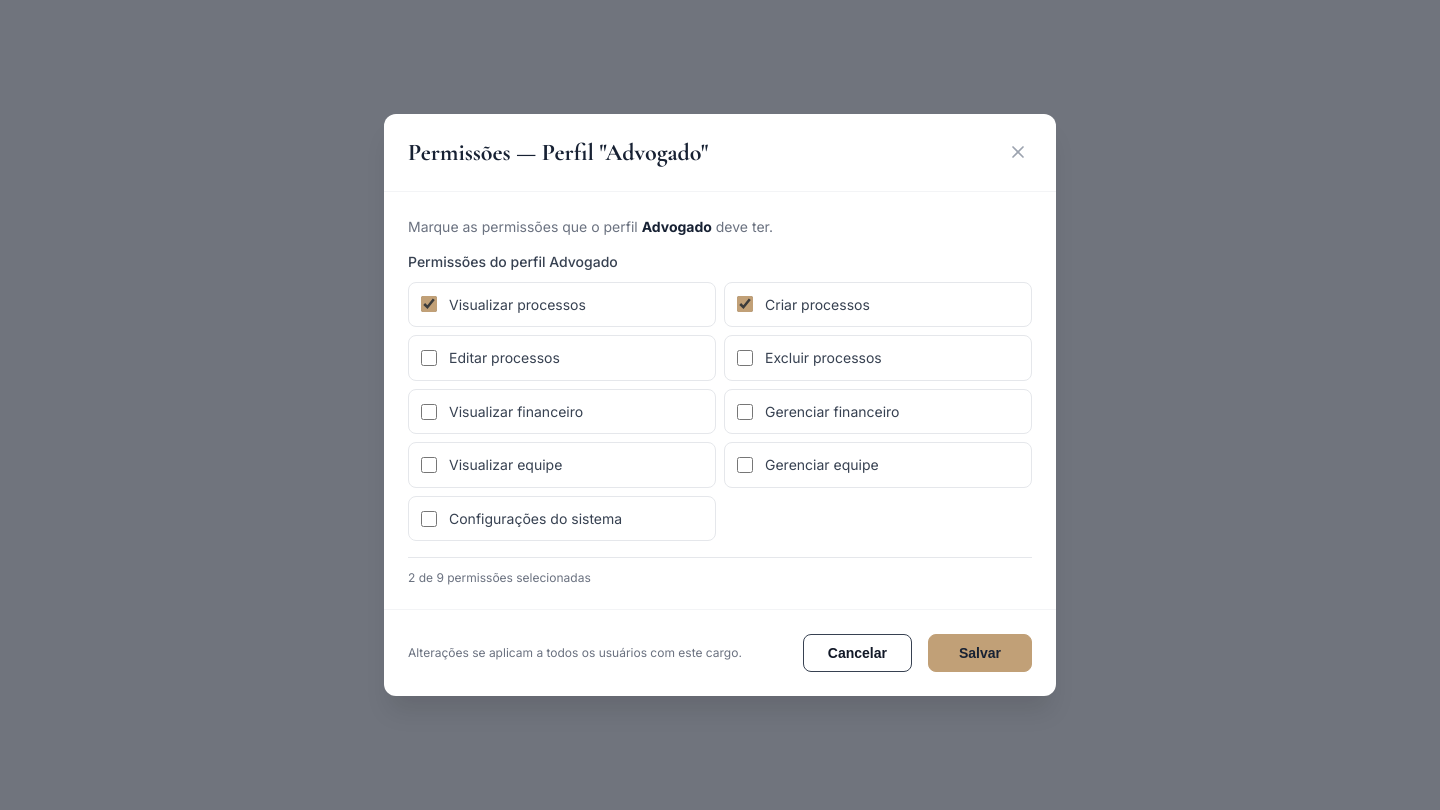
Test: RolePermissionsModal › exibe o erro e mantém a seleção quando não consegue salvar
Click the checkbox labelled "Editar processos": (429, 358) [421,350,437,366]
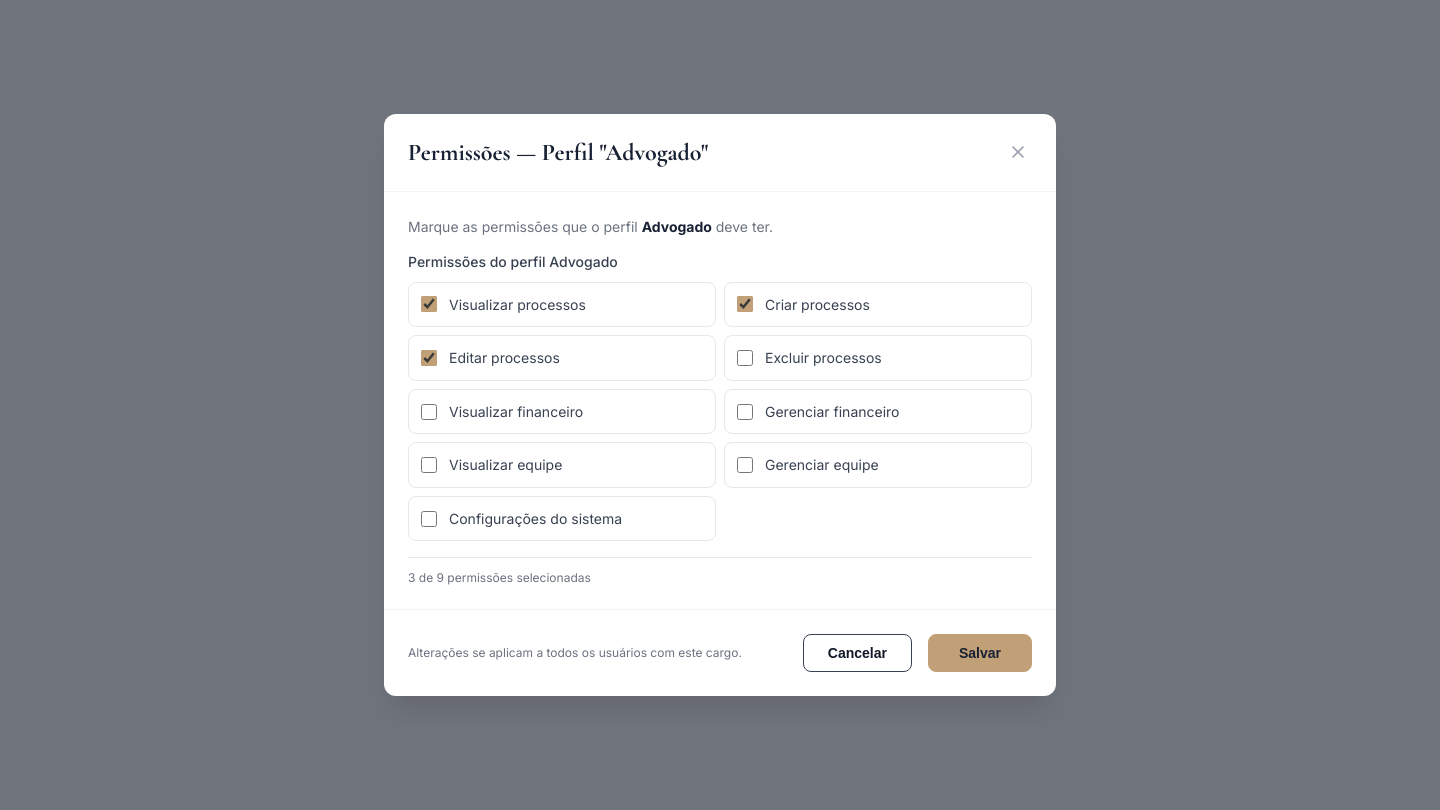
Click the button "Salvar": (980, 654) [928,634,1032,672]
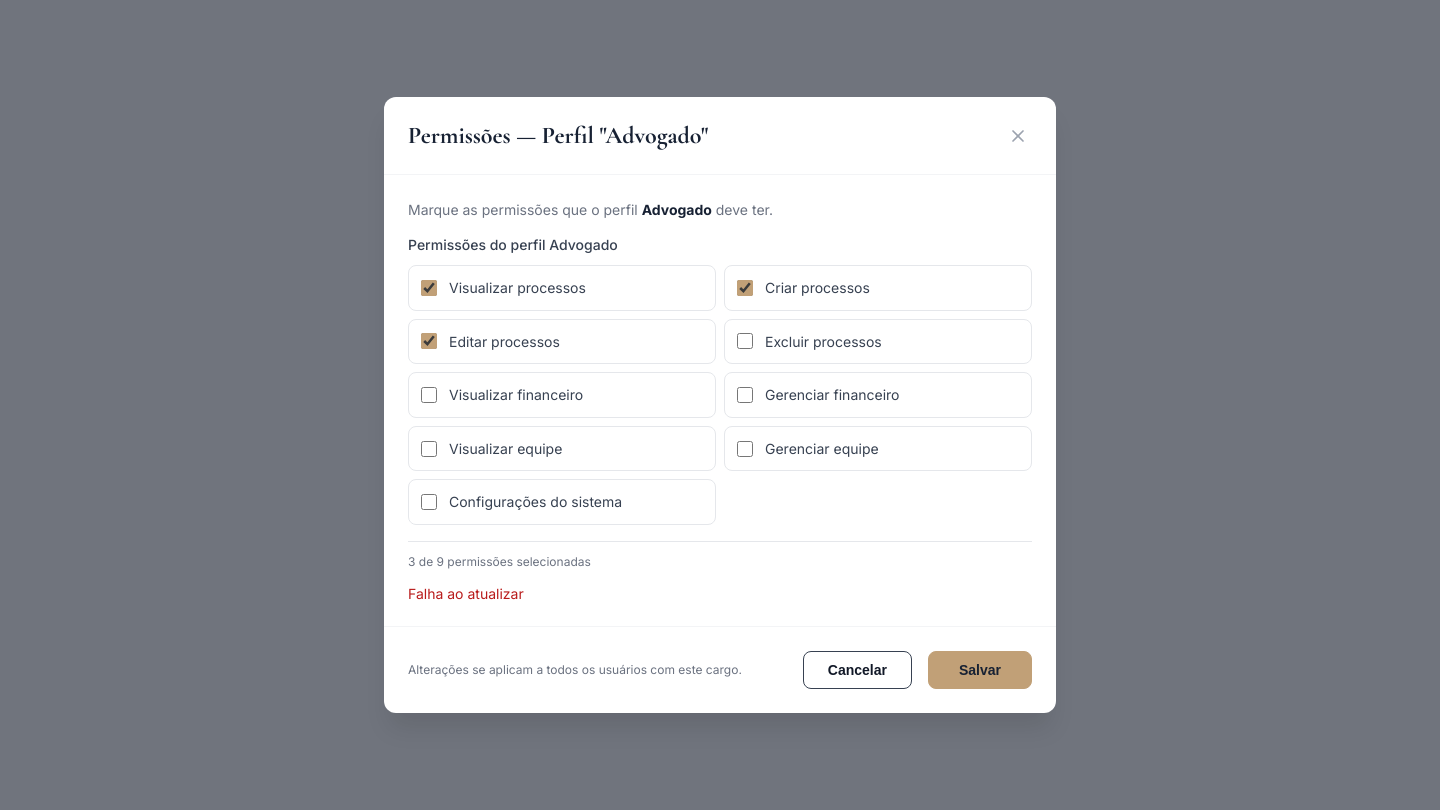
Now the checkbox labelled "Editar processos" is checked, box [421,333,437,349]
Now the message reads "Falha ao atualizar", box [408,585,524,602]
